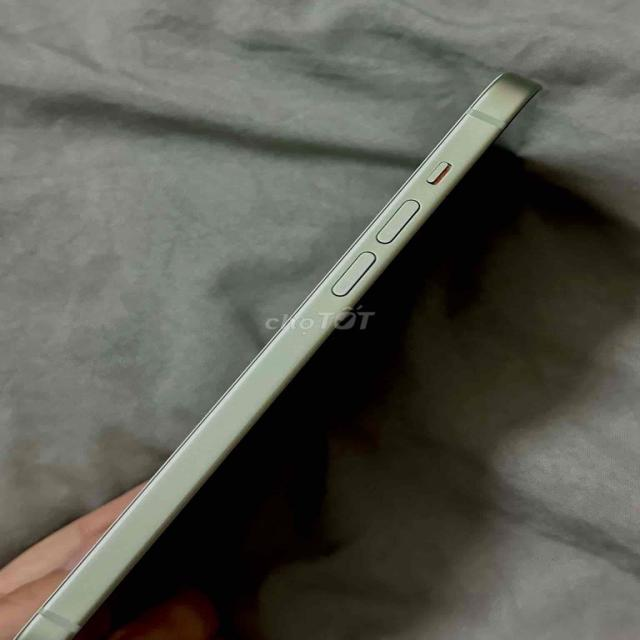gen_15: (30, 68, 555, 640)
